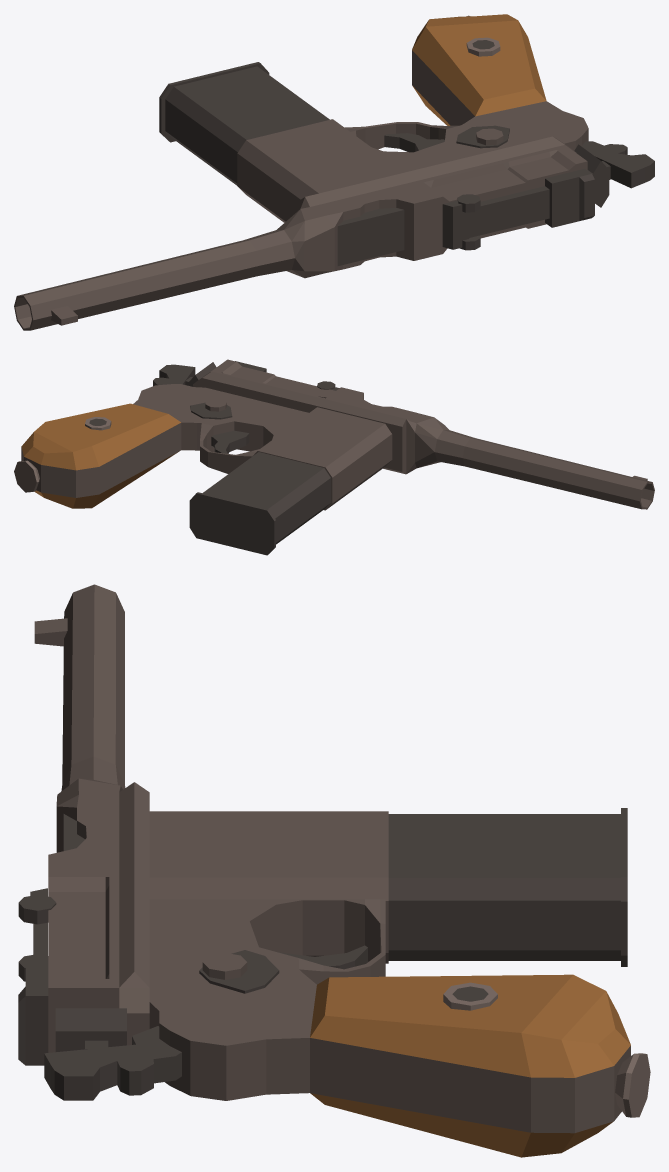
3 renders of one model, top to bottom at view 1: azimuth 30°, elevation 25°; view 2: azimuth 150°, elevation 25°; view 3: azimuth 270°, elevation 25°, orthographic. The views are drawn at different scales.
Parts seen in each view (by area): view 1: Cube; view 2: Cube; view 3: Cube.
Boxes of the visible parts, x1,y1,x2,y2 form: Cube: (14,14,654,330); Cube: (14,359,654,555); Cube: (18,584,650,1157).
Bounding box in the file's own units: 0.3452 × 0.0406 × 0.1868.
Materials: 1 (1 with a texture image).
